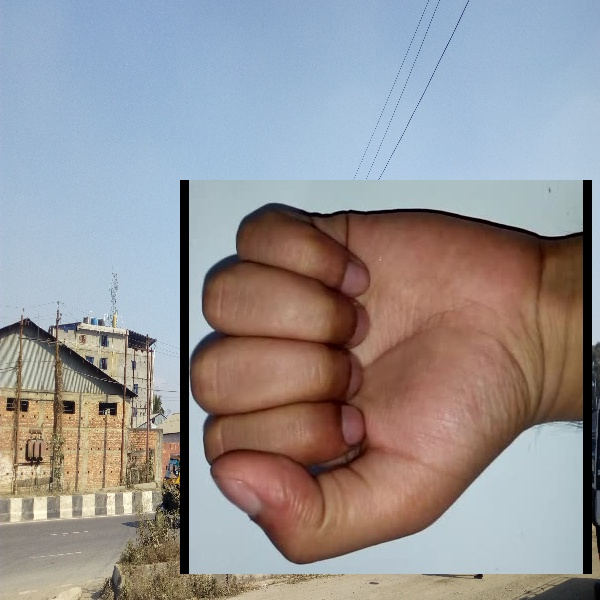A: (180, 180, 592, 574)
